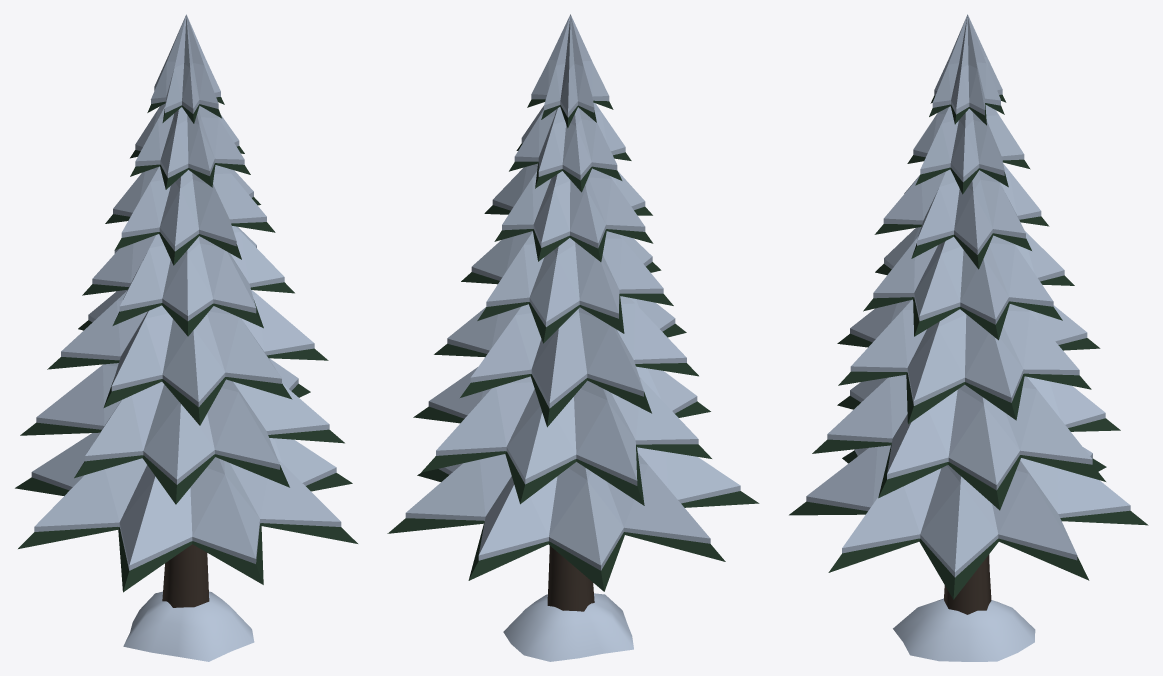
Rendered from pine_a.glb.
The picture shows the model from 3 angles, left to right: view 1: azimuth 30°, elevation 25°; view 2: azimuth 150°, elevation 25°; view 3: azimuth 270°, elevation 25°; orthographic projection.
Visible parts, largest first — view 1: Tree; view 2: Tree; view 3: Tree.
Part boxes in pixels (<box>): Tree: <box>15,14,357,661</box>; Tree: <box>387,14,759,661</box>; Tree: <box>789,14,1148,661</box>.
Bounding box in the file's own units: 4.15 × 7.61 × 3.99.
